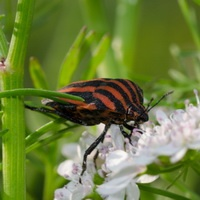insect: (25, 78, 170, 175)
